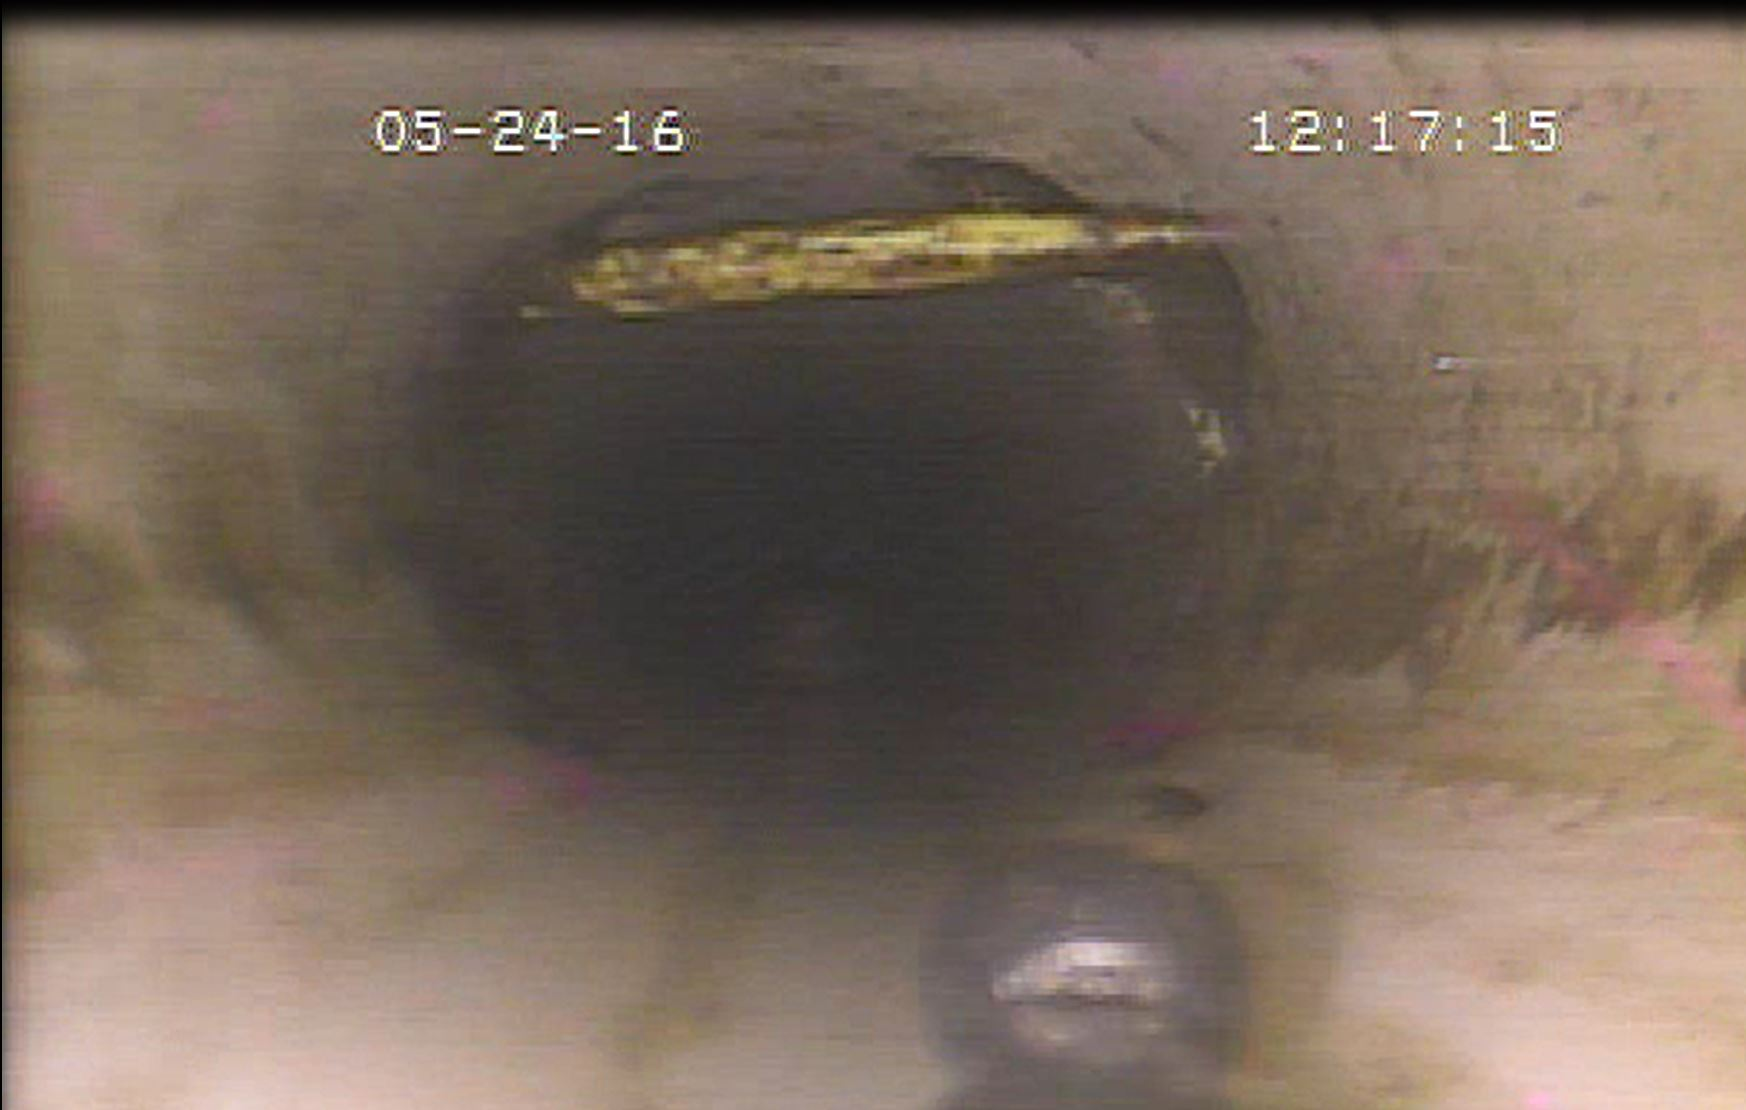cb: (435, 176, 1282, 368)
